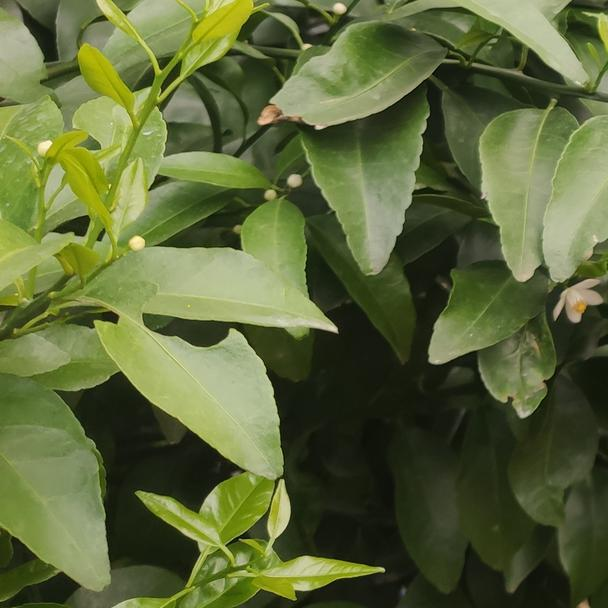shoot: (71, 2, 263, 209), (140, 477, 387, 608)
